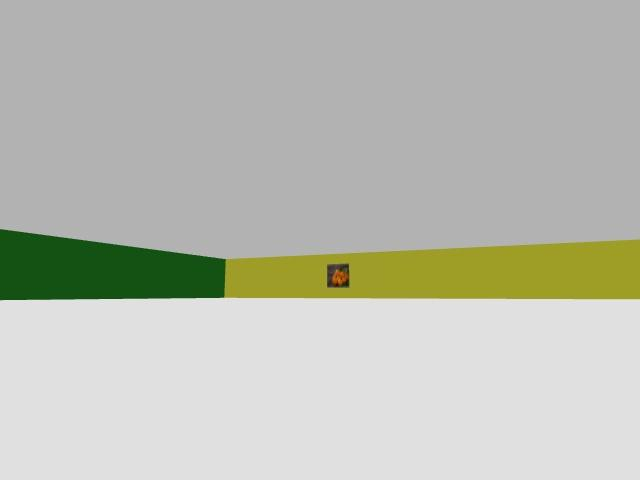orange: (332, 276, 337, 285), (337, 279, 342, 286), (333, 271, 337, 277), (344, 274, 348, 280), (338, 272, 342, 277)
